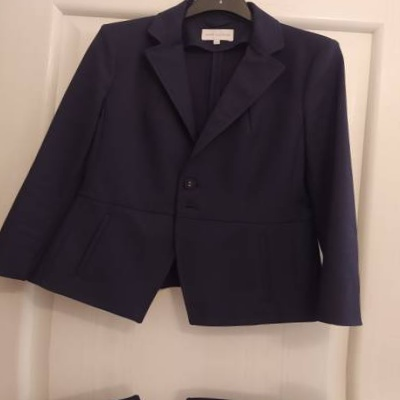Blazer: (0, 3, 373, 340), (0, 382, 357, 400)
